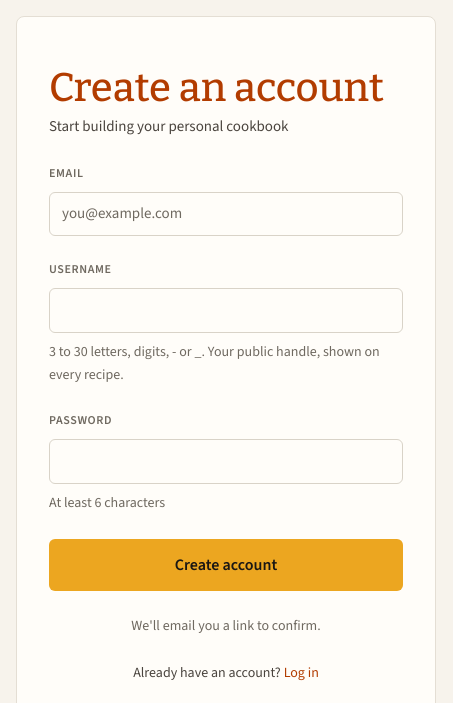
Sign-up page › a stopped submit shows the page's messages instead of the browser's bubbles, focus on the email
Step 1. Type "jane@" into the field labelled "Email" → point(226, 214), box [49, 192, 403, 236]
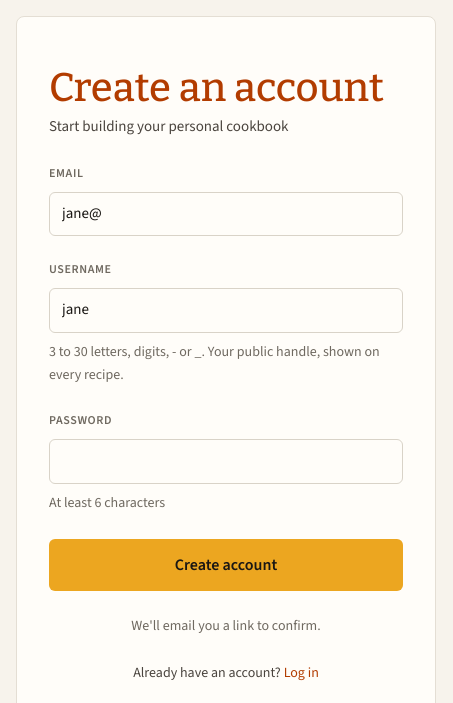
Step 2. Replace the text in the field labelled "Username" with "jo" → point(226, 310), box [49, 288, 403, 333]
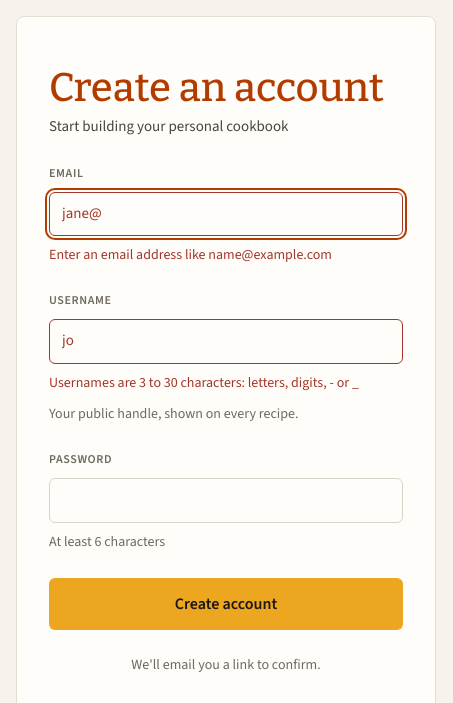
Now the text "Enter an email address like name@example.com" is shown, box [49, 245, 332, 265]
